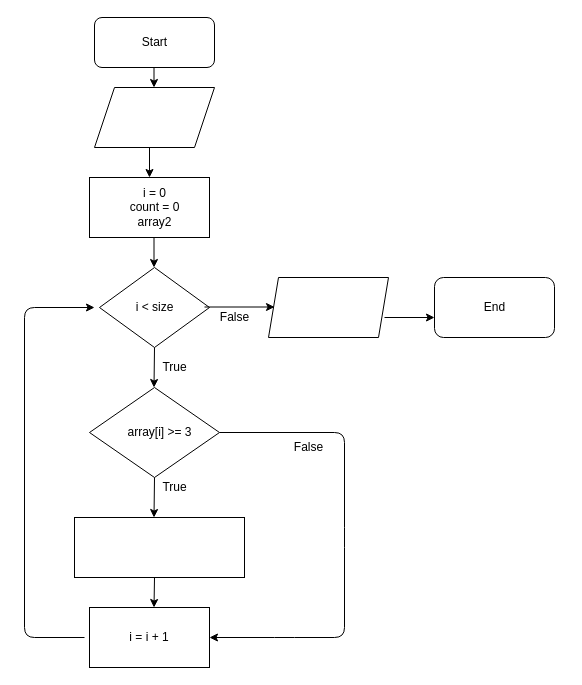
Image size: 582x685. Some labels were removed from this diagram. The centre of each missing label's shape, as x and y in pixels:
"array2" goes at pixel 328 307.
"array2[count] = array[i] count = count + 1" goes at pixel 159 547.
"Size array[size]" goes at pixel 154 117.
